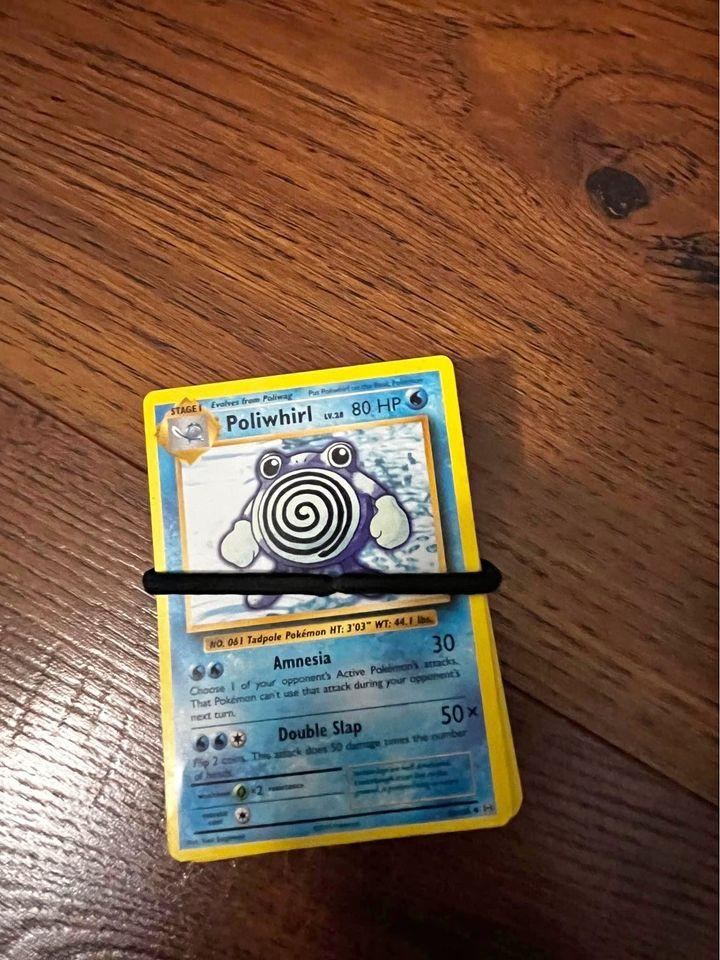card: (143, 353, 515, 862)
name: (225, 402, 316, 437)
